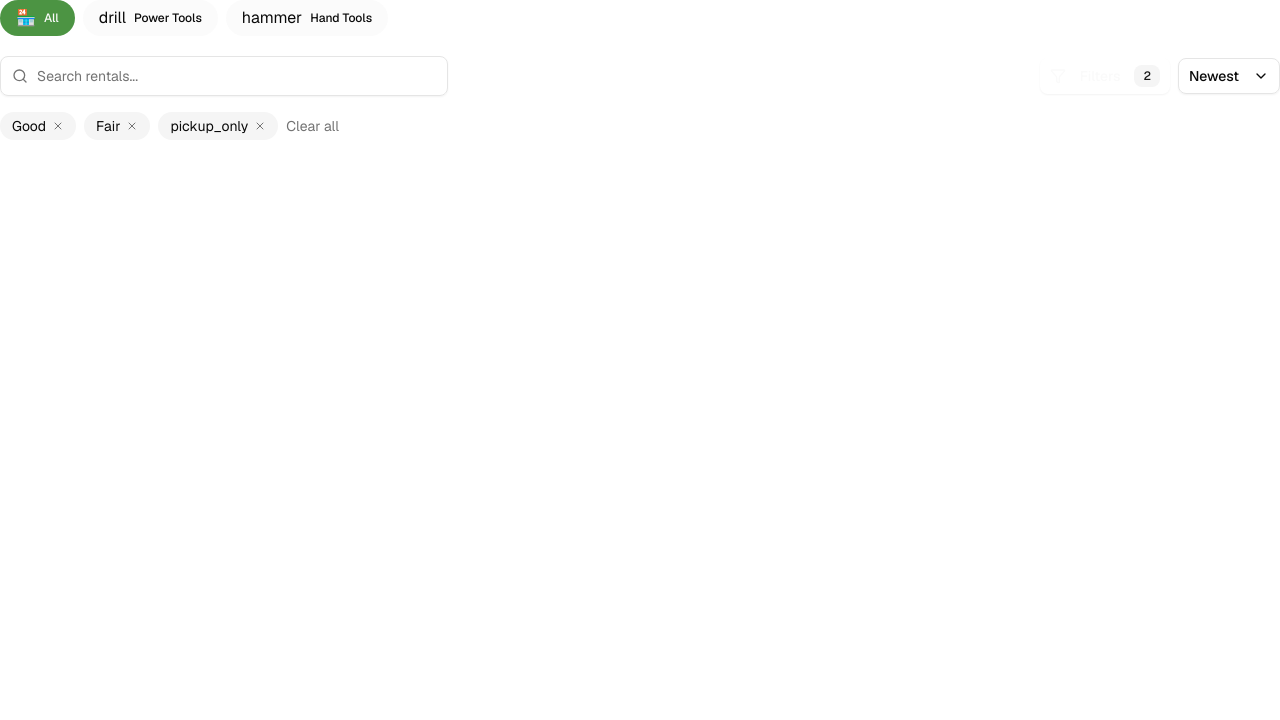
Scenario: ExplorePageFilters › Condition Filtering › should pre-check conditions based on current filters
This screenshot has width=1280, height=720.
Note: Open filters sheet
Click the button "Filters 2": click(1105, 76) [1040,58,1170,94]
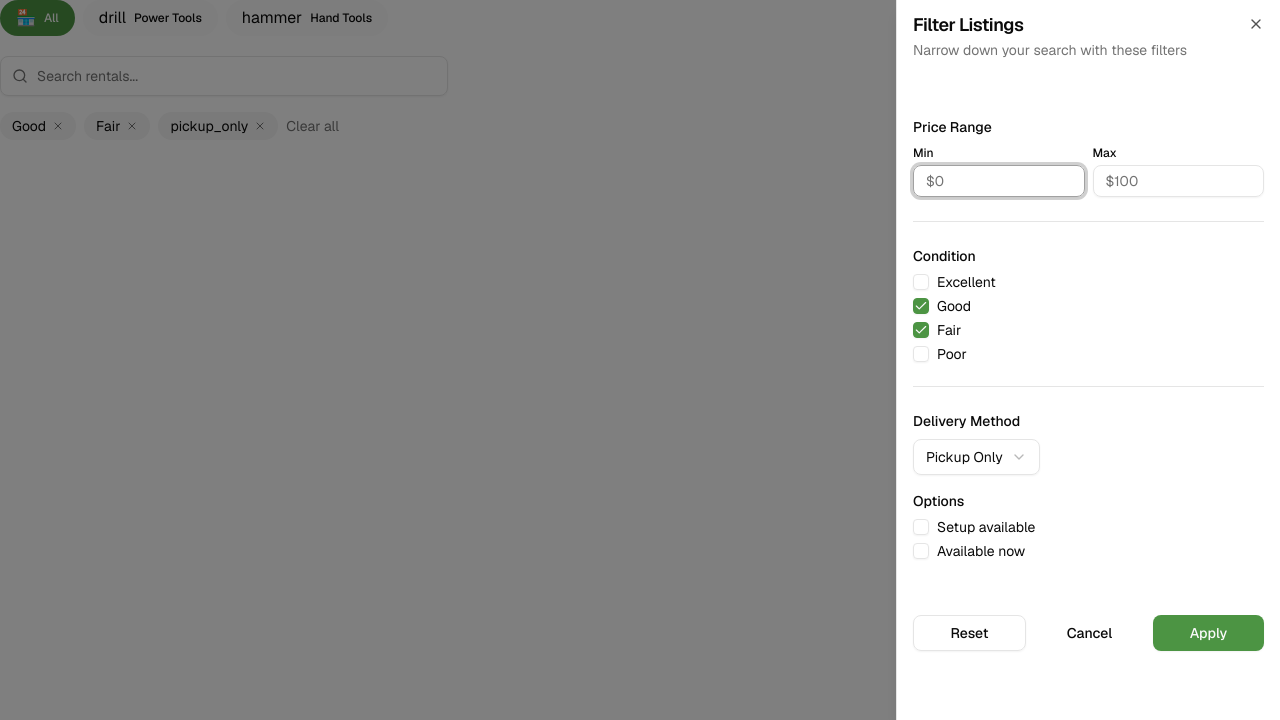
Now the 2nd checkbox named "good" is checked, box [913,298,929,314]
Now the 3rd checkbox named "fair" is checked, box [913,322,929,338]
